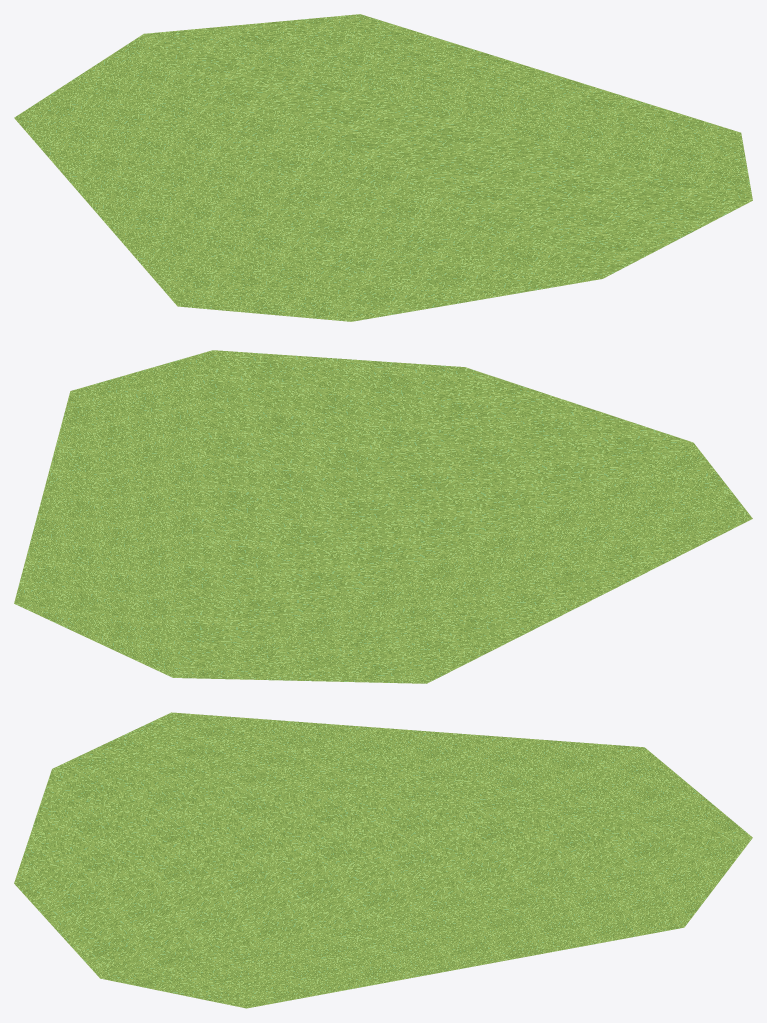
Rendered from kd_stage_1363c5_1_2_bounded.glb.
3 views of the same model, one above another, from view 1: azimuth 30°, elevation 25°; view 2: azimuth 150°, elevation 25°; view 3: azimuth 270°, elevation 25° (orthographic). The views are drawn at different scales.
Parts seen in each view (by area): view 1: kd_stage_1363c5_1_2_bounded; view 2: kd_stage_1363c5_1_2_bounded; view 3: kd_stage_1363c5_1_2_bounded.
Part boxes in pixels (bbox=[...]): kd_stage_1363c5_1_2_bounded: bbox=[14, 14, 752, 321]; kd_stage_1363c5_1_2_bounded: bbox=[14, 350, 752, 683]; kd_stage_1363c5_1_2_bounded: bbox=[14, 712, 752, 1008].
Size of the model in its own units: 9.88 by 2.03e-06 by 10.42.
Materials: 1 (1 with a texture image).
